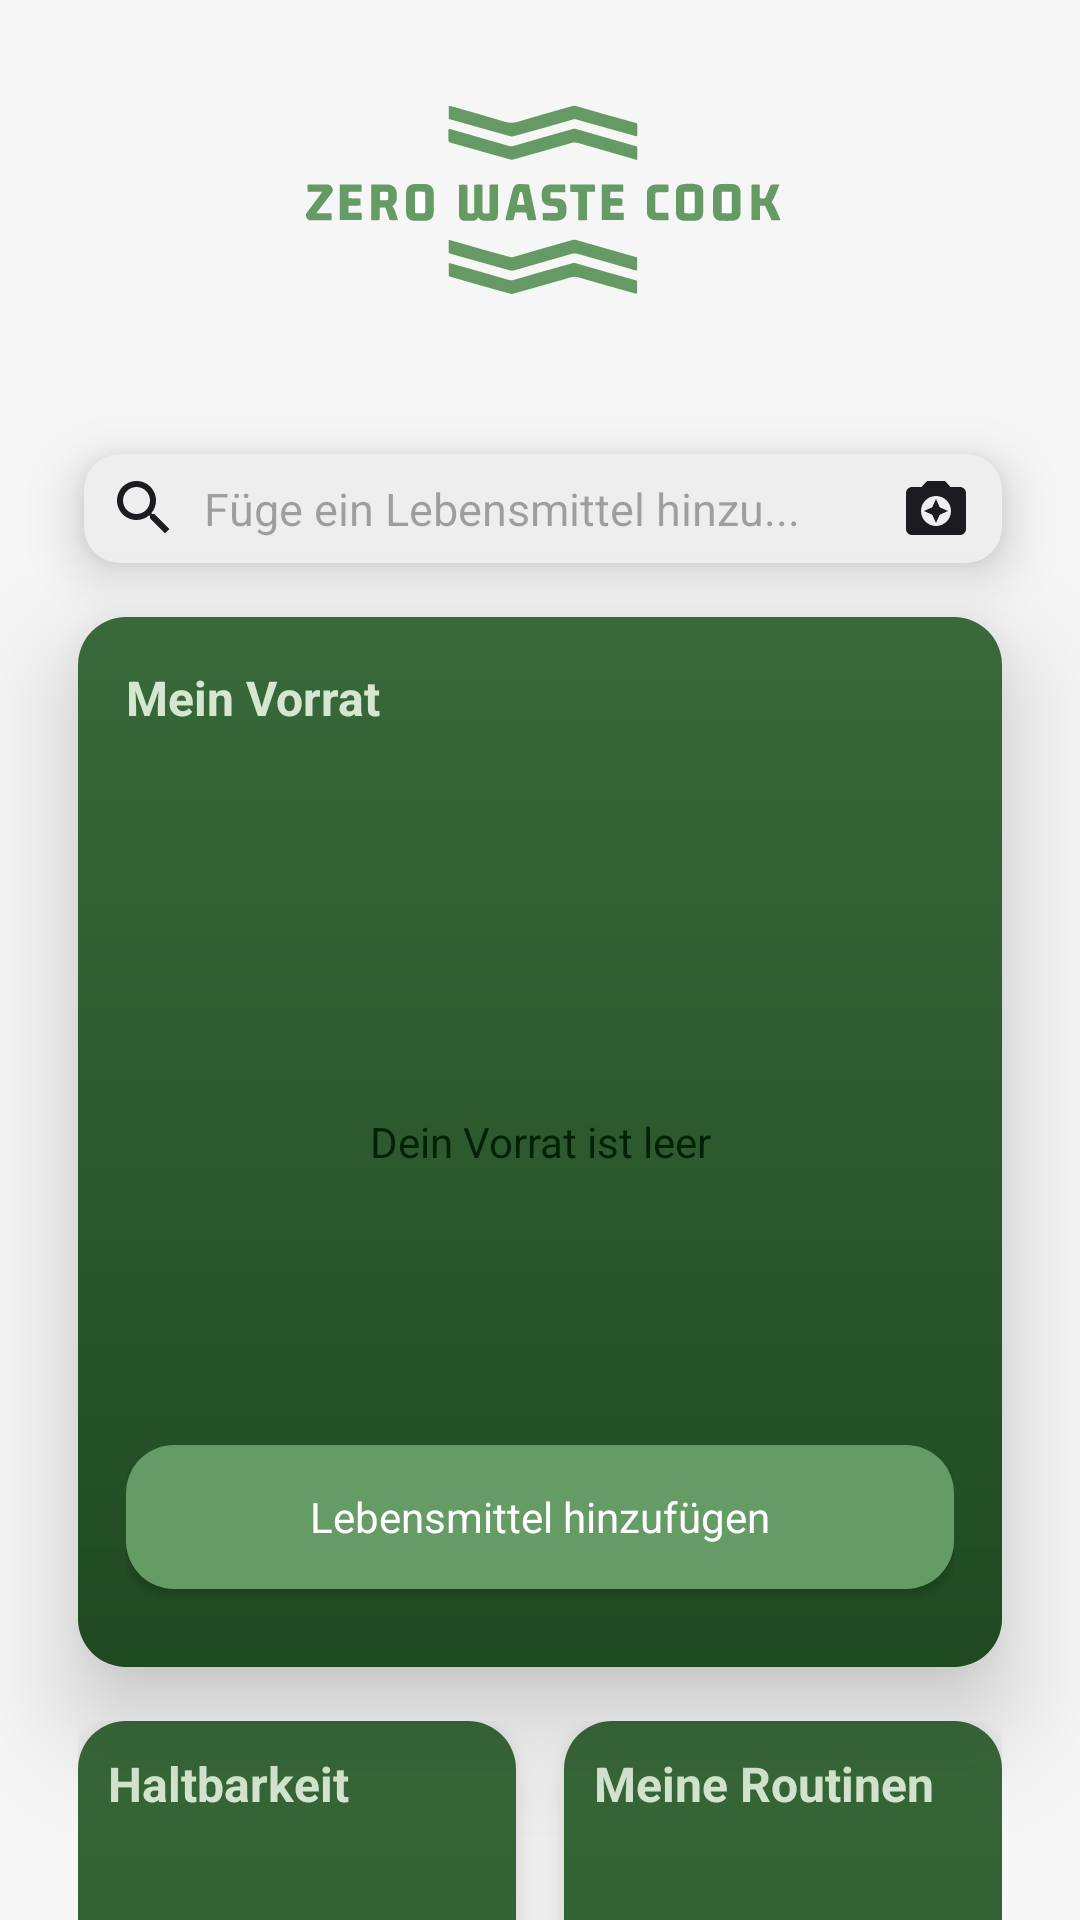

Screen size 1080x1920. Icon name, then its box in pixels as (x1, y1, x2, y2):
Camera Icon: (906, 481, 966, 535)
Search Icon: (117, 481, 169, 533)
